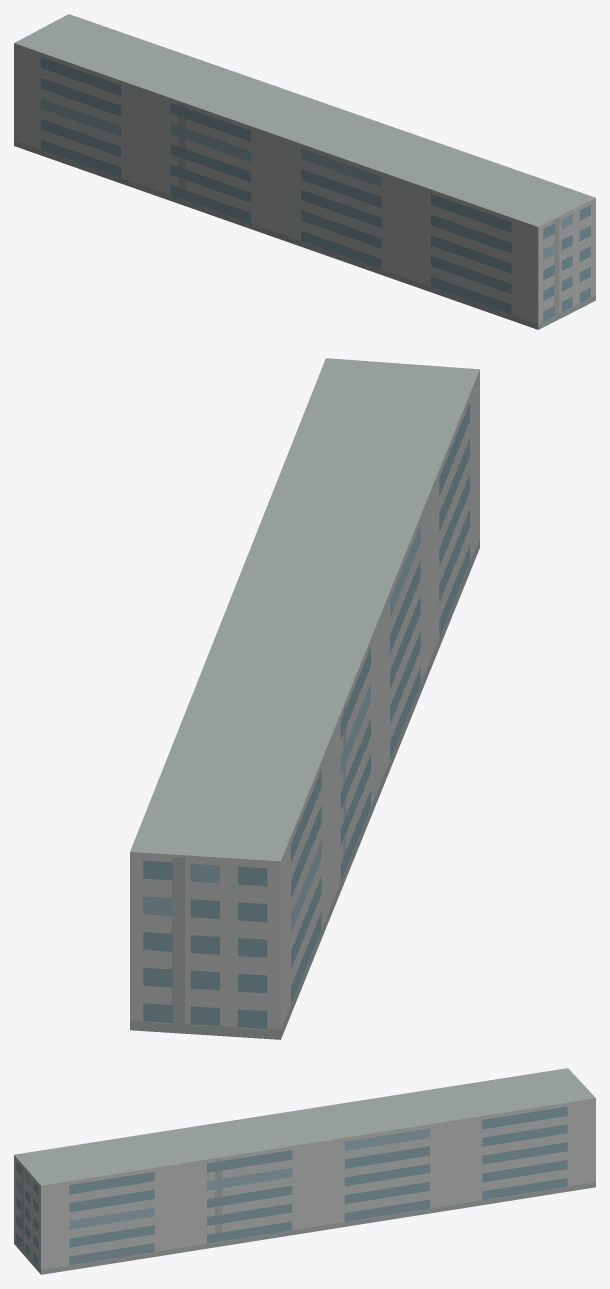
Rendered from residential-bf5865c5-8bc5-40e5-bb58-e5e234b09c6d.glb.
3 views of the same model, one above another, from view 1: azimuth 30°, elevation 25°; view 2: azimuth 150°, elevation 25°; view 3: azimuth 270°, elevation 25° (orthographic). The views are drawn at different scales.
Parts seen in each view (by area): view 1: residential-bf5865c5-8bc5-40e5-bb58-e5e234b09c6d.tmp; view 2: residential-bf5865c5-8bc5-40e5-bb58-e5e234b09c6d.tmp; view 3: residential-bf5865c5-8bc5-40e5-bb58-e5e234b09c6d.tmp.
Boxes of the visible parts, box(x1,y1,x2,y2) form: residential-bf5865c5-8bc5-40e5-bb58-e5e234b09c6d.tmp: box(14, 14, 595, 329); residential-bf5865c5-8bc5-40e5-bb58-e5e234b09c6d.tmp: box(130, 358, 479, 1039); residential-bf5865c5-8bc5-40e5-bb58-e5e234b09c6d.tmp: box(14, 1068, 595, 1274).
Size of the model in its own units: 43.12 by 15.25 by 90.17.
